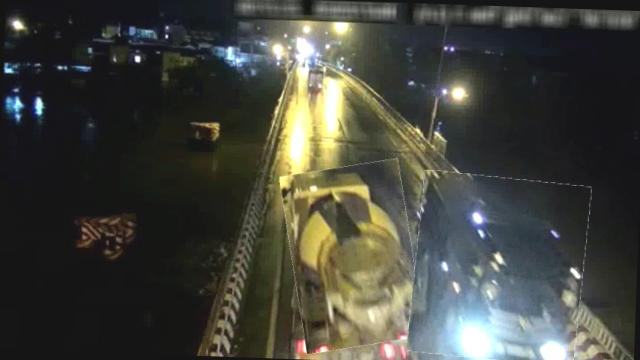Truck: (409, 172, 588, 360), (281, 159, 424, 353)
